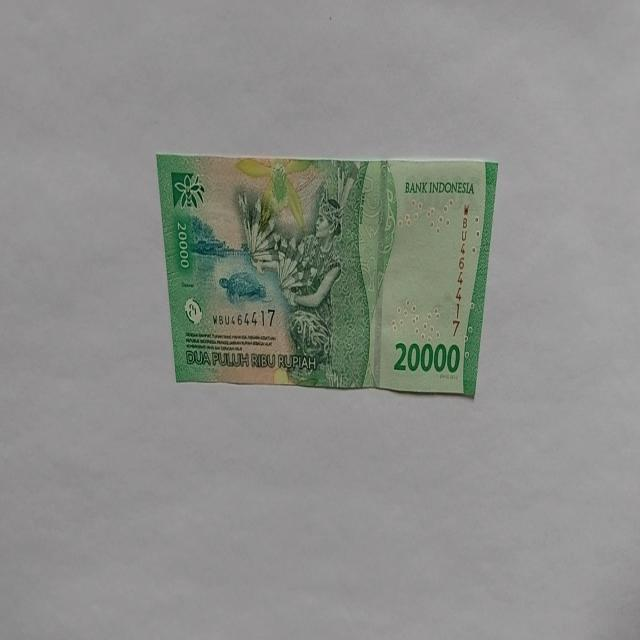dua puluh ribu rupiah: (156, 151, 498, 398)
